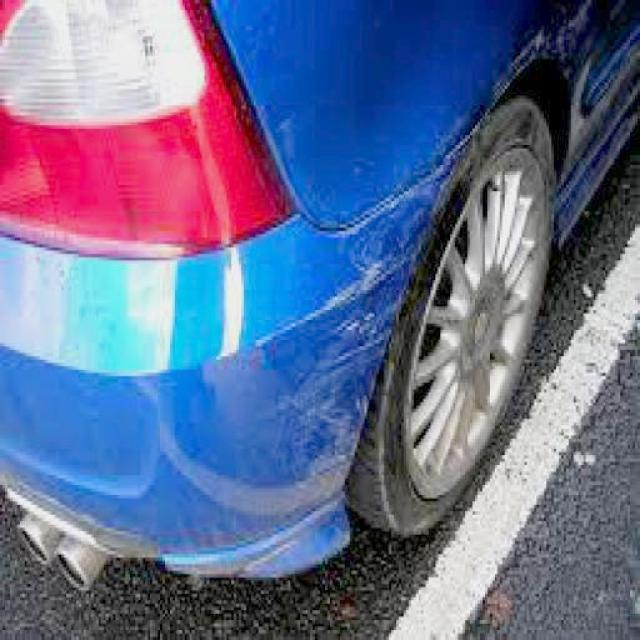car damage: (260, 3, 595, 519)
